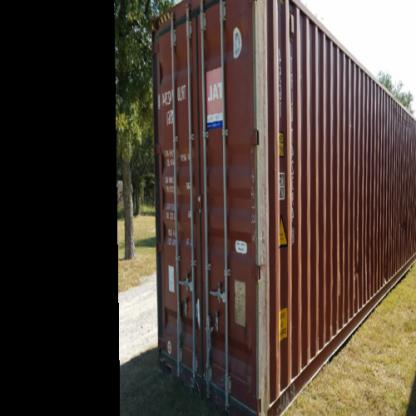Damage: (348, 247, 366, 290), (396, 206, 414, 232), (384, 252, 392, 284)
